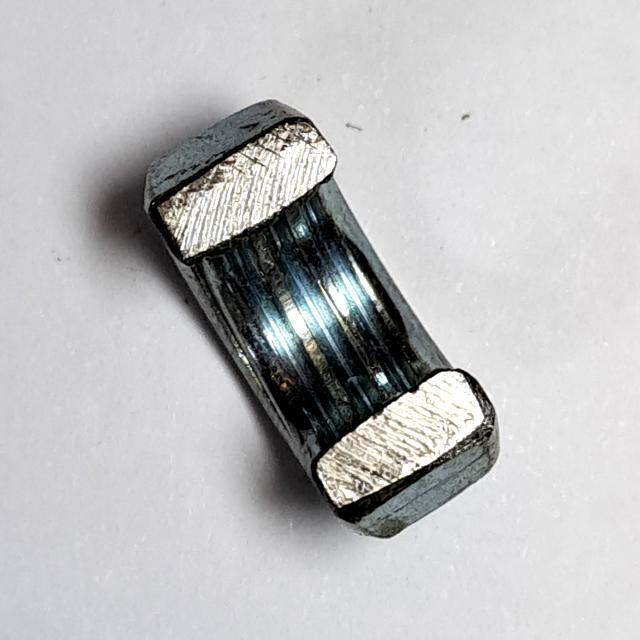Side-Fracture: (126, 90, 519, 552)
